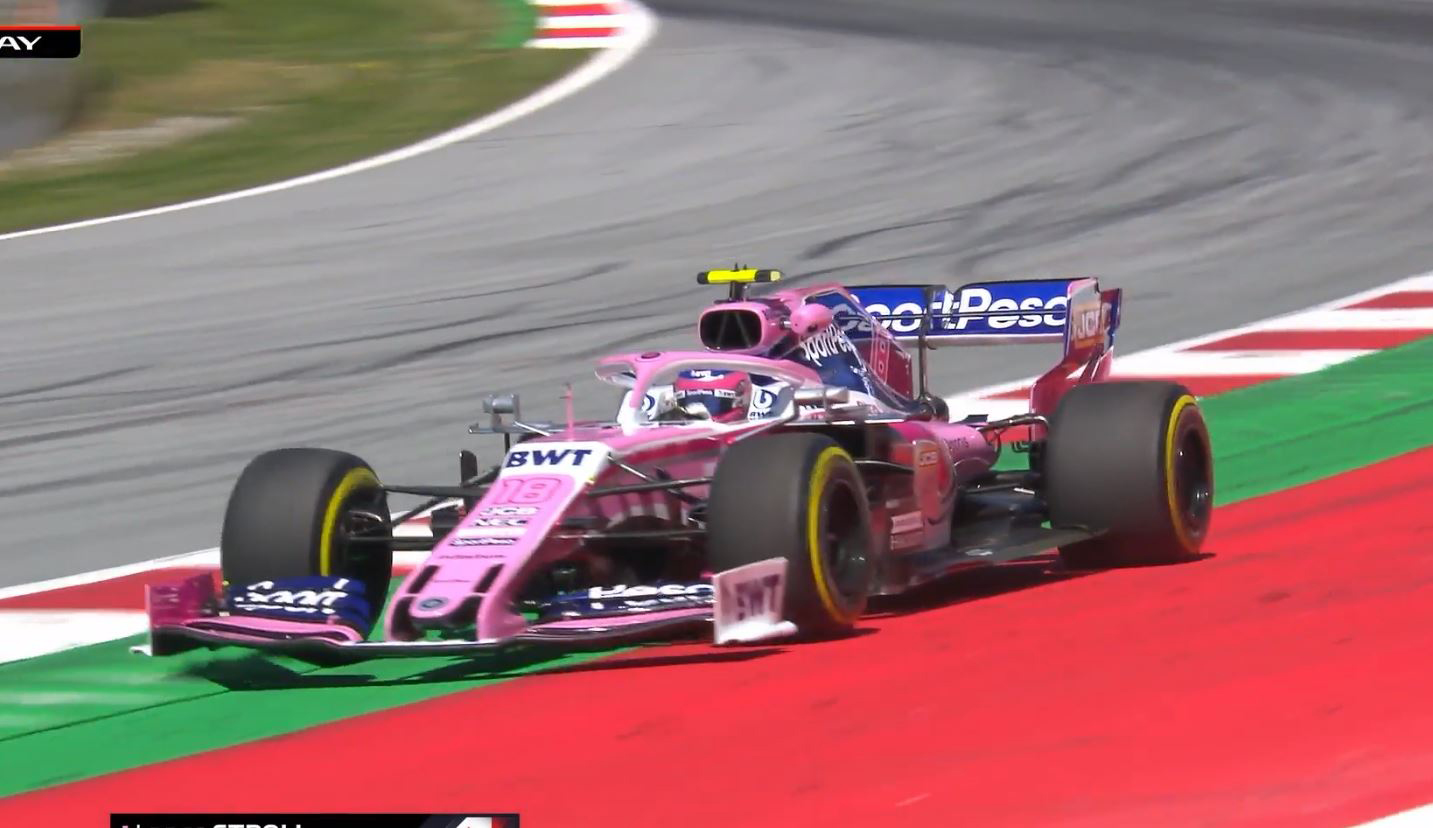F1 Car: (126, 252, 1221, 685)
